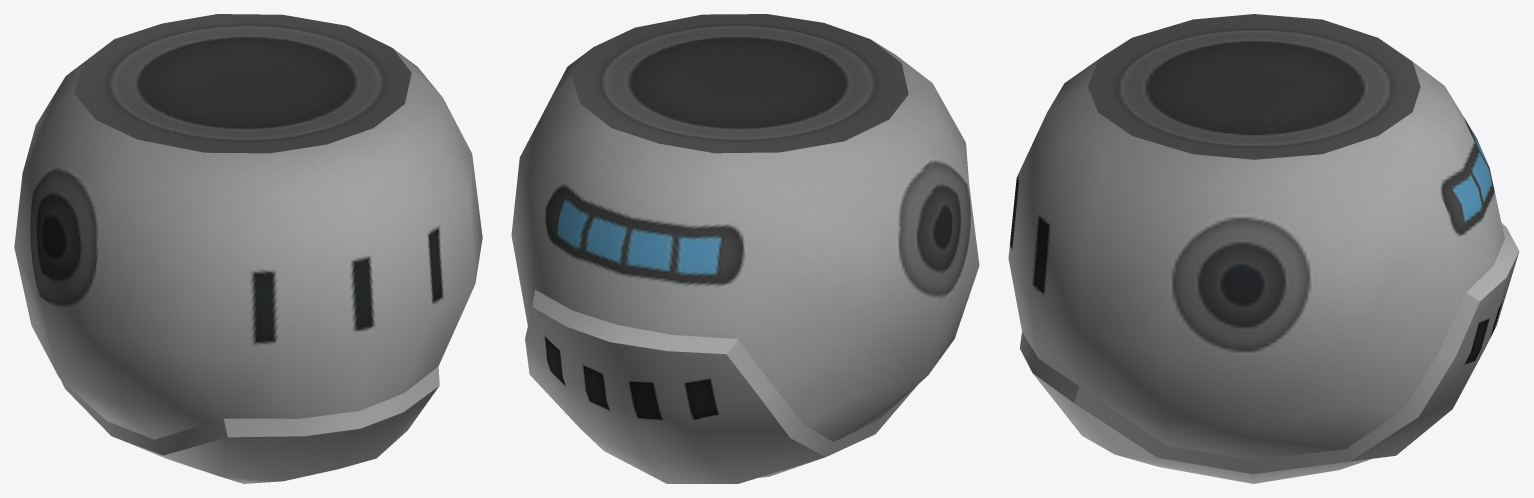
File: body.glb
3 views of the same model, side by side, from view 1: azimuth 30°, elevation 25°; view 2: azimuth 150°, elevation 25°; view 3: azimuth 270°, elevation 25° (orthographic).
Parts seen in each view (by area): view 1: Robot001_mesh; view 2: Robot001_mesh; view 3: Robot001_mesh.
Boxes of the visible parts, bbox=[...] form: Robot001_mesh: bbox=[14, 14, 482, 483]; Robot001_mesh: bbox=[511, 14, 979, 483]; Robot001_mesh: bbox=[1008, 14, 1519, 483].
Size of the model in its own units: 0.3402 by 0.2921 by 0.3656.
1 material, 1 textured.
